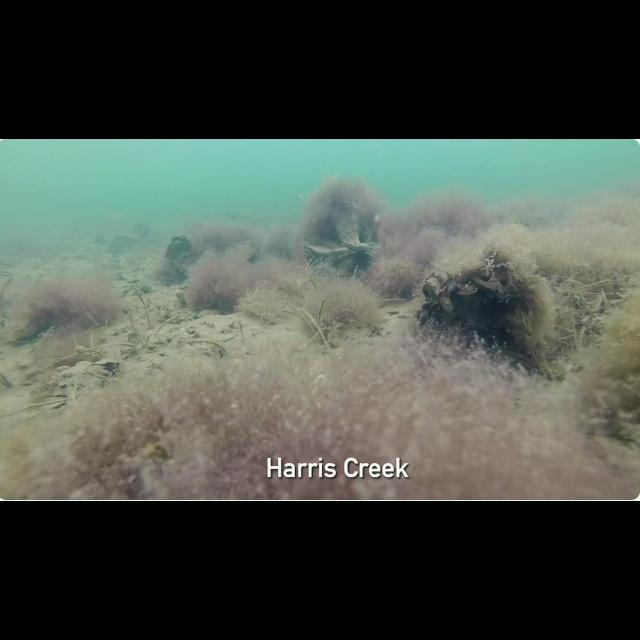Oyster-Closed: (164, 233, 193, 275), (106, 234, 138, 256), (422, 272, 444, 300), (498, 293, 526, 309), (472, 276, 496, 294), (342, 240, 372, 254), (519, 332, 539, 353), (496, 265, 516, 285), (502, 310, 522, 328), (456, 308, 476, 326), (493, 328, 512, 346), (439, 294, 456, 314), (516, 308, 534, 326), (459, 286, 479, 300), (509, 330, 526, 346), (473, 320, 489, 332), (480, 311, 496, 323), (473, 297, 483, 313)
Oyster-Open: (304, 243, 348, 267)
